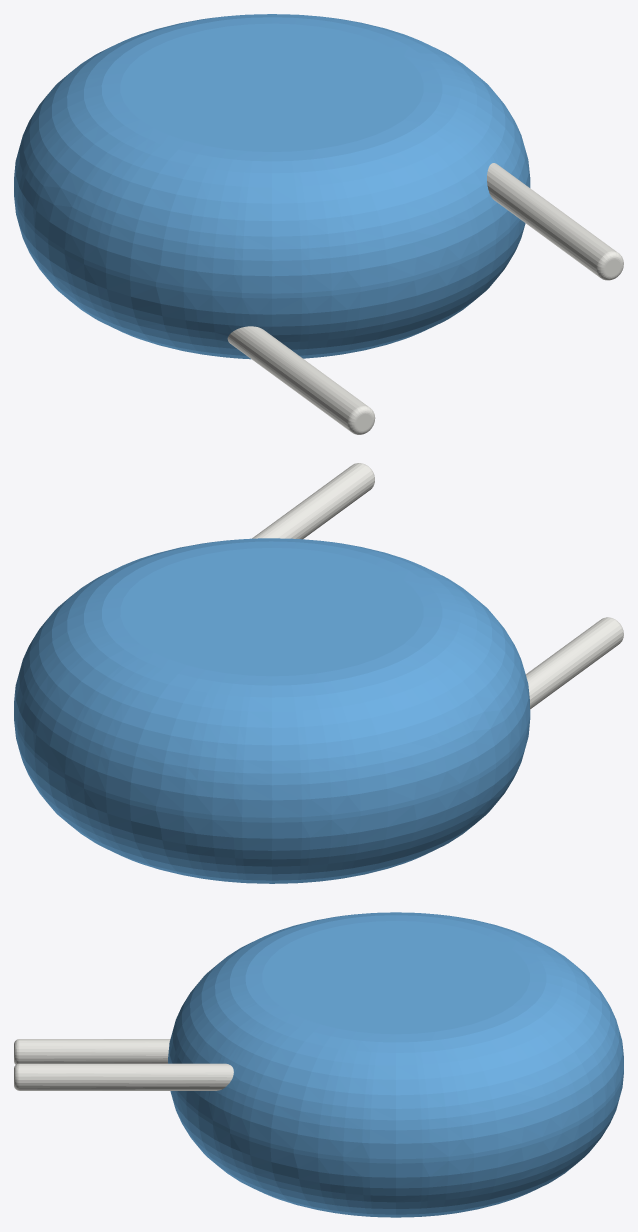
The model's file is RV_Disc_D9mm_W3.8mm_P5mm.glb.
3 renders of one model, top to bottom at view 1: azimuth 30°, elevation 25°; view 2: azimuth 150°, elevation 25°; view 3: azimuth 270°, elevation 25°, orthographic. The views are drawn at different scales.
Visible parts, largest first — view 1: Shape_IndexedFaceSet.001, Shape_IndexedFaceSet.003, Shape_IndexedFaceSet.002, Shape_IndexedFaceSet.006, Shape_IndexedFaceSet.004, Shape_IndexedFaceSet; view 2: Shape_IndexedFaceSet.001, Shape_IndexedFaceSet.003, Shape_IndexedFaceSet.002, Shape_IndexedFaceSet.004, Shape_IndexedFaceSet.006, Shape_IndexedFaceSet; view 3: Shape_IndexedFaceSet.001, Shape_IndexedFaceSet.003, Shape_IndexedFaceSet.002, Shape_IndexedFaceSet.004, Shape_IndexedFaceSet.006, Shape_IndexedFaceSet.
Part boxes in pixels (x1,y1,x2,y2): Shape_IndexedFaceSet.001: (14, 14, 530, 293); Shape_IndexedFaceSet.003: (120, 23, 423, 151); Shape_IndexedFaceSet.002: (14, 196, 525, 359); Shape_IndexedFaceSet.006: (227, 326, 368, 431); Shape_IndexedFaceSet.004: (487, 163, 616, 276); Shape_IndexedFaceSet: (14, 191, 520, 298); Shape_IndexedFaceSet.001: (14, 538, 530, 817); Shape_IndexedFaceSet.003: (120, 548, 423, 676); Shape_IndexedFaceSet.002: (14, 720, 529, 883); Shape_IndexedFaceSet.004: (252, 463, 374, 539); Shape_IndexedFaceSet.006: (525, 618, 622, 709); Shape_IndexedFaceSet: (14, 715, 530, 822); Shape_IndexedFaceSet.001: (168, 912, 623, 1159); Shape_IndexedFaceSet.003: (262, 921, 529, 1034); Shape_IndexedFaceSet.002: (170, 1073, 623, 1217); Shape_IndexedFaceSet.004: (19, 1063, 233, 1090); Shape_IndexedFaceSet.006: (19, 1039, 170, 1063); Shape_IndexedFaceSet: (175, 1069, 623, 1163).
Size of the model in its own units: 3.54 by 1.5 by 4.73.
